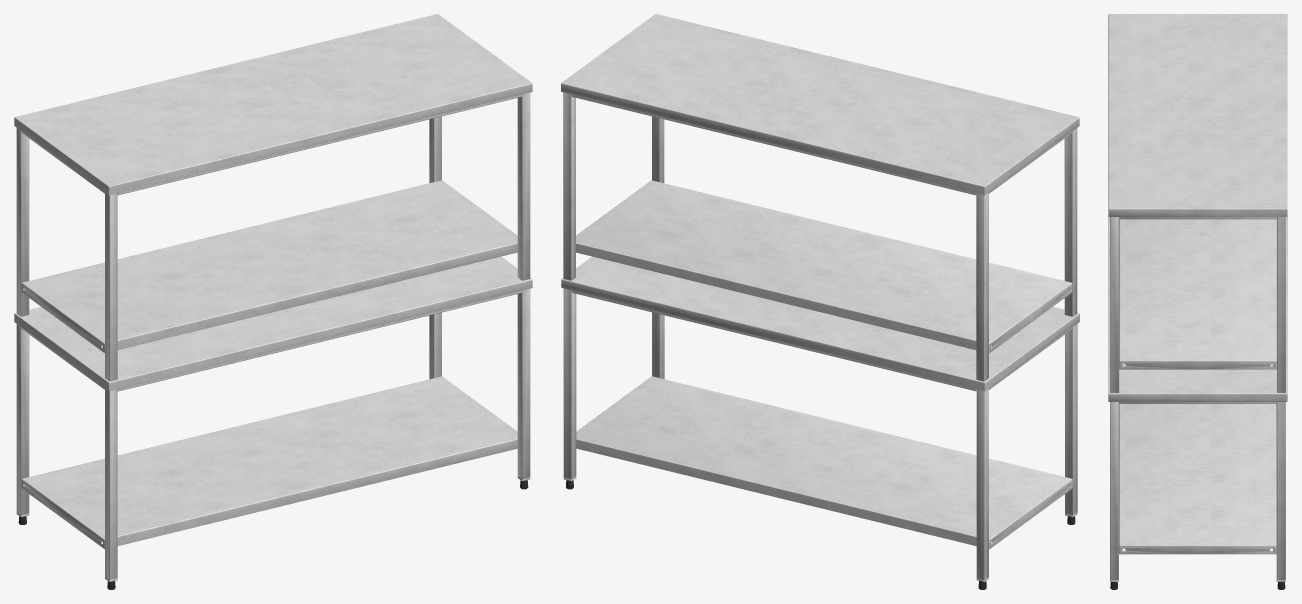
The model's file is table_metal_stainless_a03.glb.
3 renders of one model, left to right at view 1: azimuth 30°, elevation 25°; view 2: azimuth 150°, elevation 25°; view 3: azimuth 270°, elevation 25°, orthographic. The views are drawn at different scales.
Visible parts, largest first — view 1: sm_table_metal_stainless_a03_mesh_00 (×2); view 2: sm_table_metal_stainless_a03_mesh_00 (×2); view 3: sm_table_metal_stainless_a03_mesh_00 (×2).
Part boxes in pixels (x1,y1,x2,y2): sm_table_metal_stainless_a03_mesh_00 (×2): (14, 14, 532, 589); sm_table_metal_stainless_a03_mesh_00 (×2): (561, 14, 1079, 589); sm_table_metal_stainless_a03_mesh_00 (×2): (1108, 14, 1287, 589).
Bounding box in the file's own units: 1.8 × 1.64 × 0.6999.
2 materials, 2 textured.
